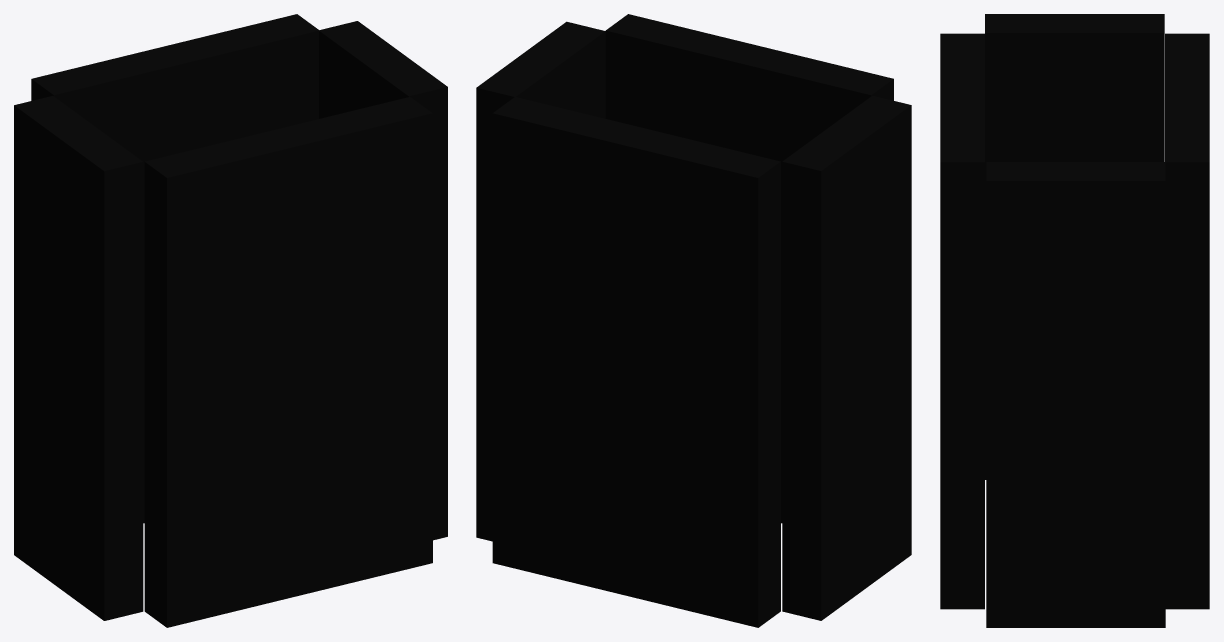
File: fondo.obj
3 views of the same model, side by side, from view 1: azimuth 30°, elevation 25°; view 2: azimuth 150°, elevation 25°; view 3: azimuth 270°, elevation 25° (orthographic).
Parts seen in each view (by area): view 1: G_Fondo2, G_Fondo4, G_Fondo3, G_Fondo1; view 2: G_Fondo3, G_Fondo4, G_Fondo2, G_Fondo1; view 3: G_Fondo1, G_Fondo4, G_Fondo2, G_Fondo3.
Boxes of the visible parts, x1=… form: G_Fondo2: x1=144, y1=97, x2=432, y2=627; G_Fondo4: x1=14, y1=96, x2=143, y2=620; G_Fondo3: x1=31, y1=14, x2=319, y2=523; G_Fondo1: x1=319, y1=21, x2=447, y2=540; G_Fondo3: x1=492, y1=97, x2=780, y2=627; G_Fondo4: x1=782, y1=95, x2=911, y2=620; G_Fondo2: x1=605, y1=14, x2=893, y2=523; G_Fondo1: x1=476, y1=21, x2=605, y2=541; G_Fondo1: x1=986, y1=162, x2=1165, y2=627; G_Fondo4: x1=985, y1=14, x2=1164, y2=479; G_Fondo2: x1=940, y1=33, x2=984, y2=609; G_Fondo3: x1=1165, y1=33, x2=1209, y2=609.
Bounding box in the file's own units: 9.15 × 11.43 × 6.25.
